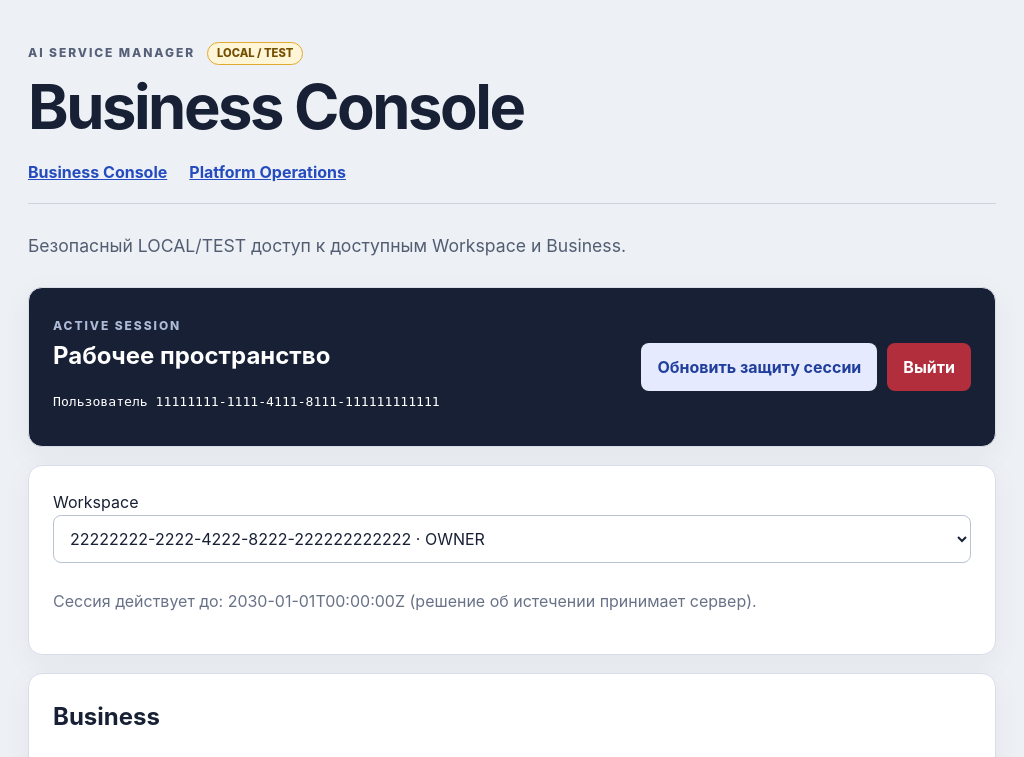
Scenario: Business Console auth › ignores an old Business 401 after accepting a rotated session
Expected: the text "Пользователь 11111111-1111-4111-8111-111111111111" is shown, 53,394 -> 440,409
Click the button "Обновить защиту сессии". click: [759, 367]
box: 642,343 -> 877,391
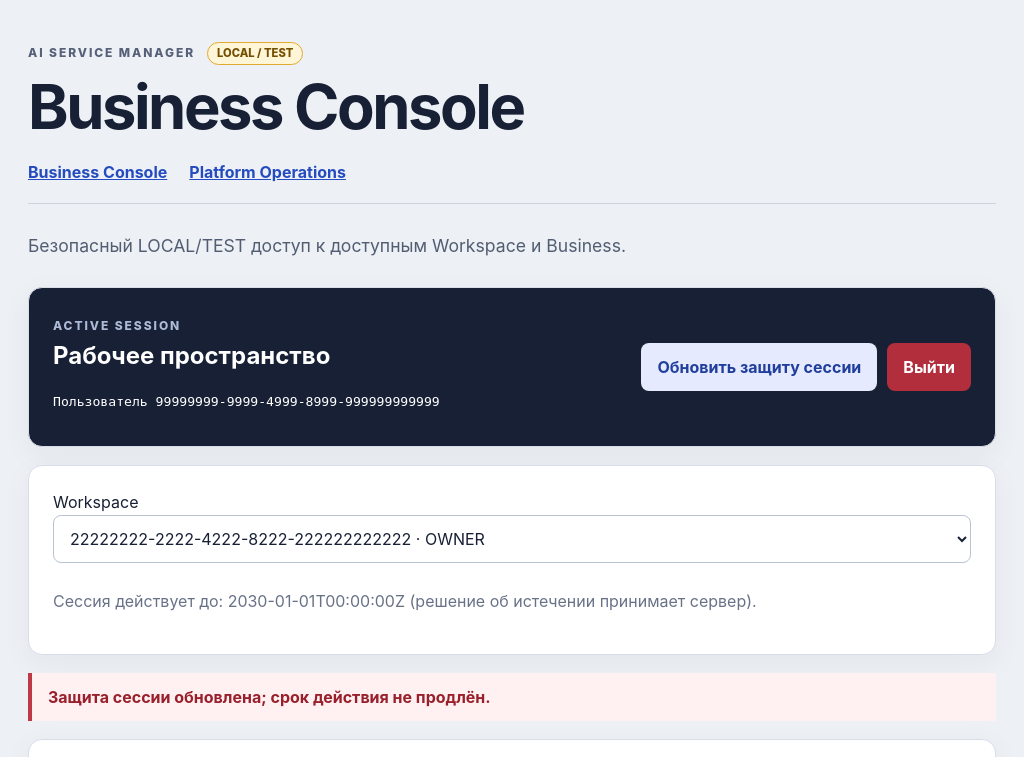
Now the text "Пользователь 99999999-9999-4999-8999-999999999999" is shown, box 53,394 -> 440,409
